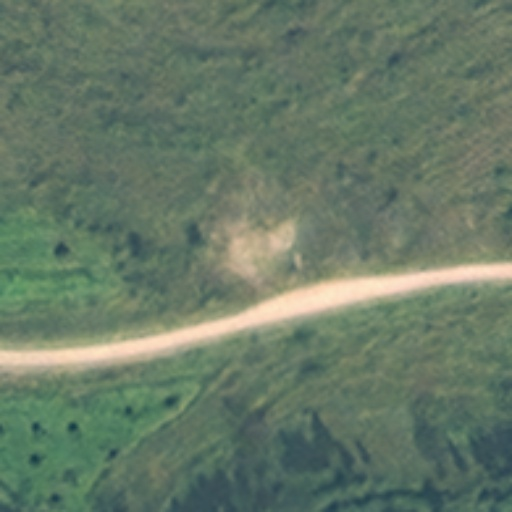landslide: (200, 211, 305, 277)
